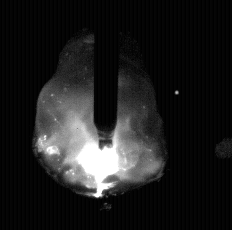arame: (95, 0, 118, 150)
poca: (34, 0, 161, 230)
